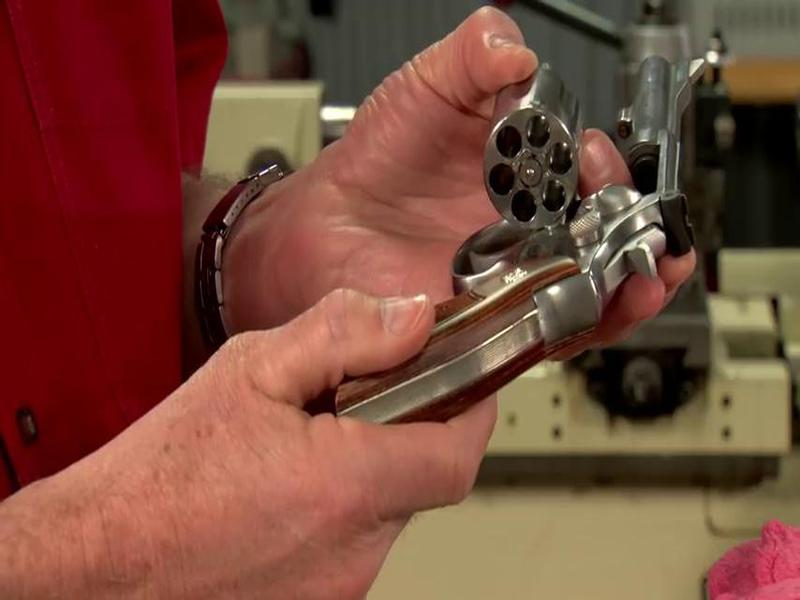Revolver: (305, 43, 707, 427)
